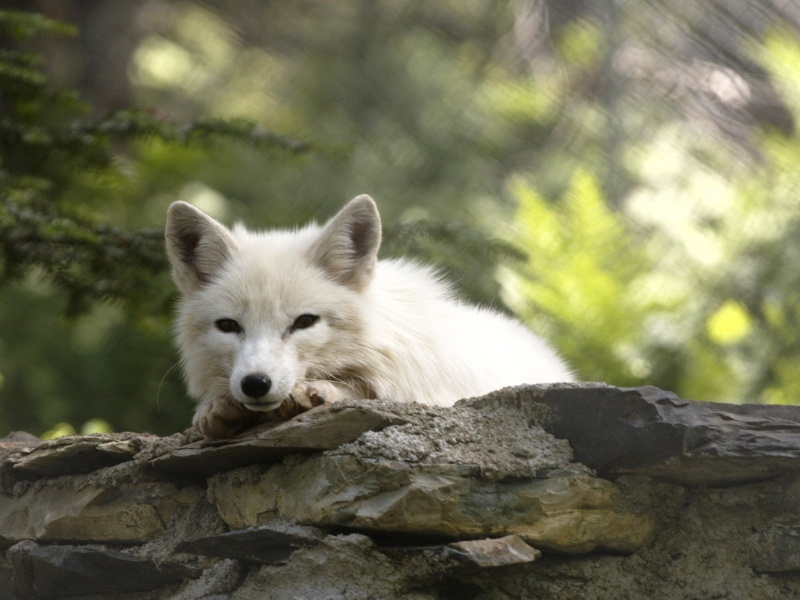fox: (161, 195, 584, 447)
